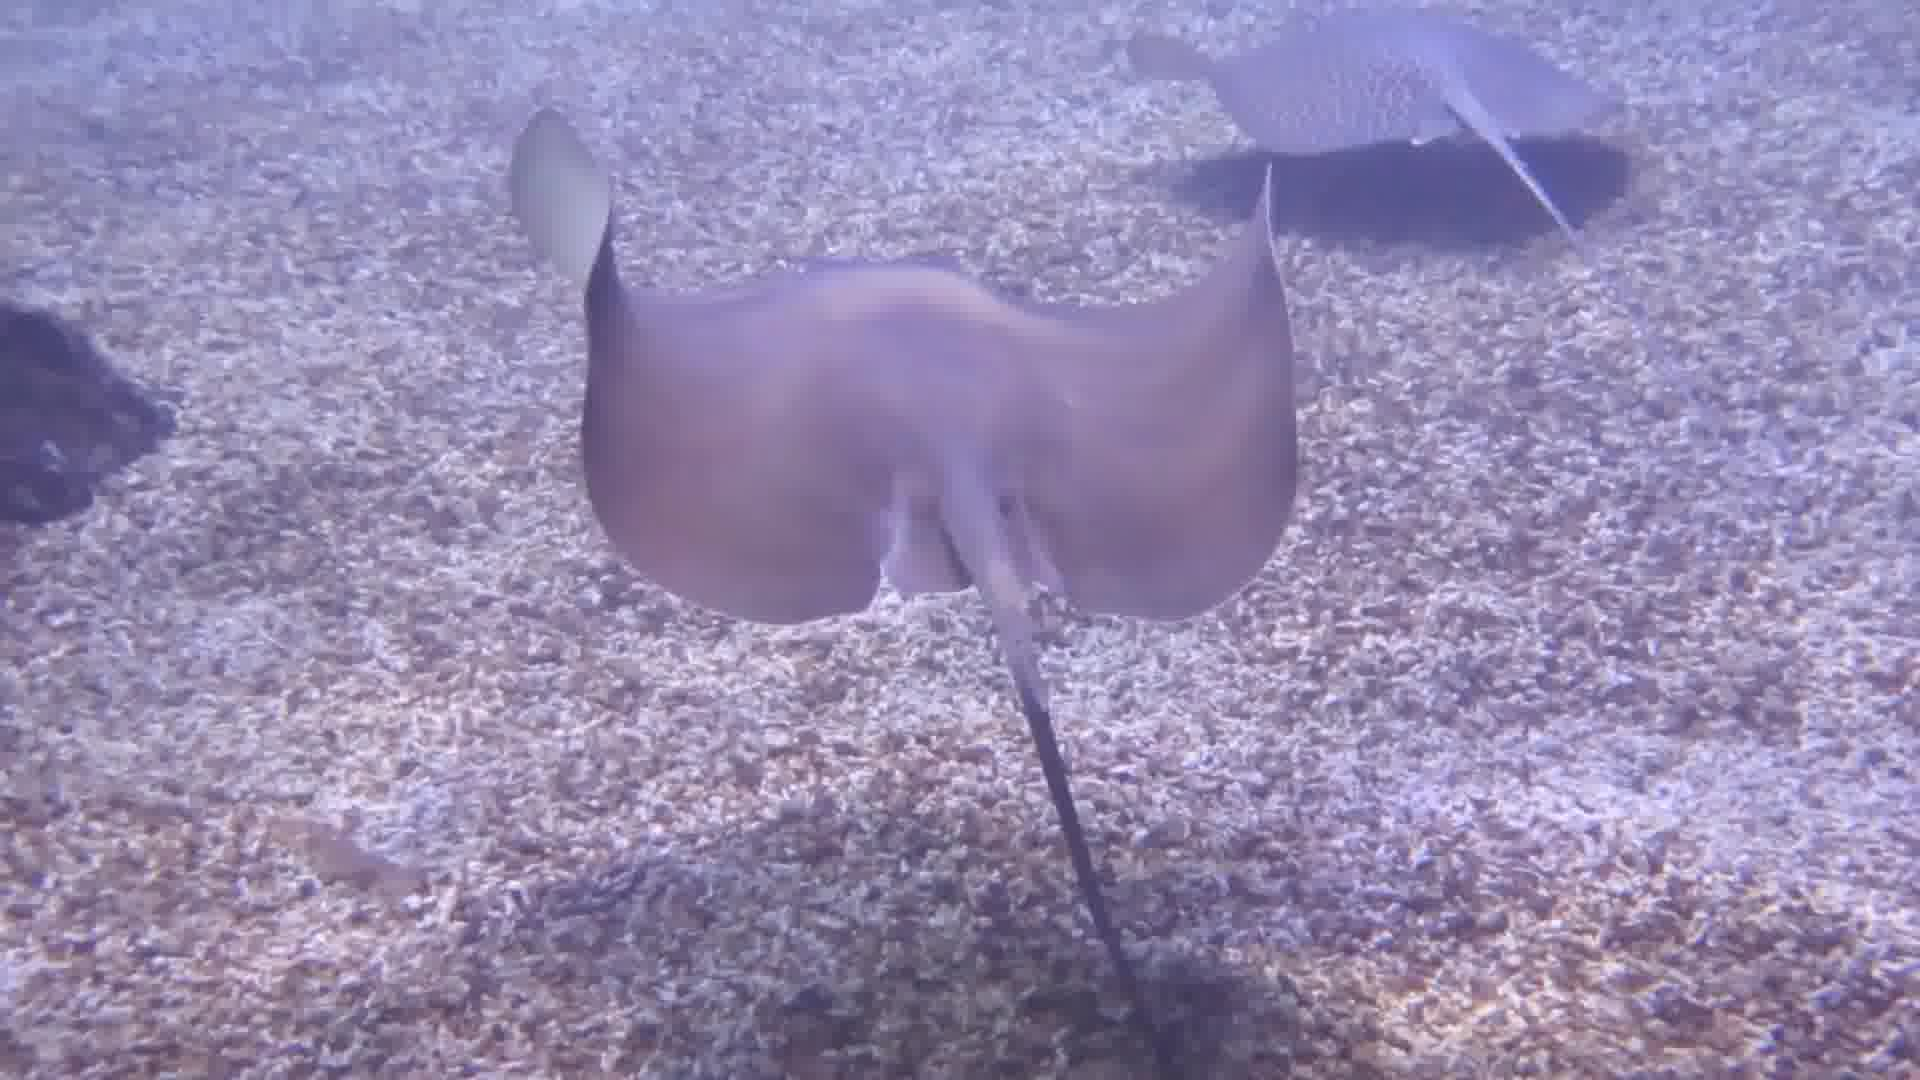Dasyatis akajei: (475, 104, 1481, 1080)
